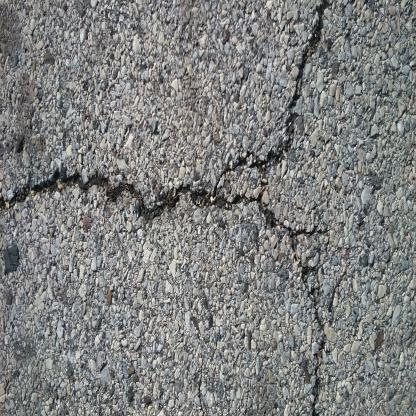Cracks: (0, 162, 331, 416), (217, 3, 333, 193)
